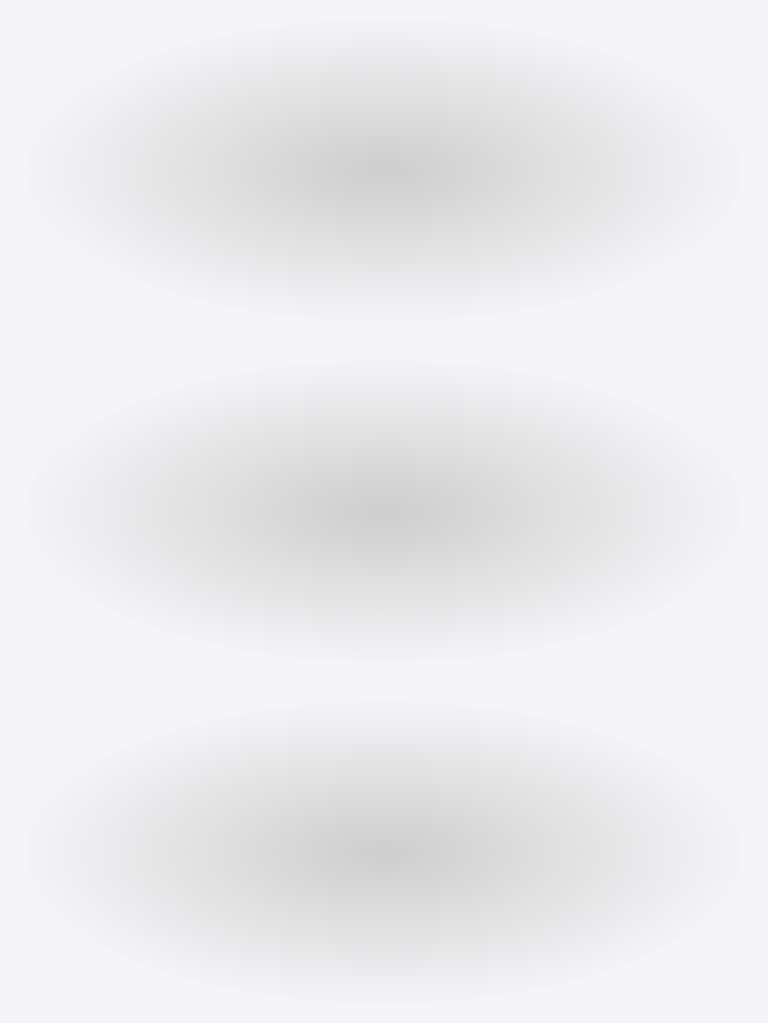
Rendered from SM_Floor.glb.
The picture shows the model from 3 angles, top to bottom: view 1: azimuth 30°, elevation 25°; view 2: azimuth 150°, elevation 25°; view 3: azimuth 270°, elevation 25°; orthographic projection.
Parts seen in each view (by area): view 1: SM_Floor; view 2: SM_Floor; view 3: SM_Floor.
Part boxes in pixels (<box>): SM_Floor: <box>69,37,698,303</box>; SM_Floor: <box>69,378,698,644</box>; SM_Floor: <box>69,719,698,985</box>.
Bounding box in the file's own units: 10 × 0 × 10.
1 material, 1 textured.
